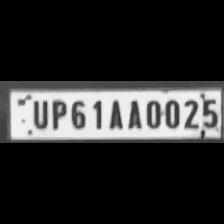0: (142, 97, 162, 129), (162, 97, 180, 129)
1: (89, 97, 106, 130)
2: (181, 96, 199, 130)
5: (200, 96, 218, 128)
6: (66, 97, 88, 130)
A: (105, 96, 125, 130), (124, 96, 142, 130)
P: (48, 98, 68, 130)
U: (28, 98, 50, 130)
